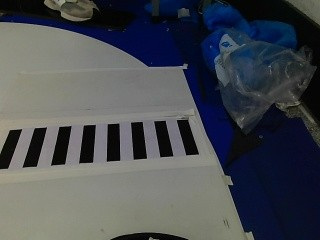crosswalk: (0, 118, 199, 164)
